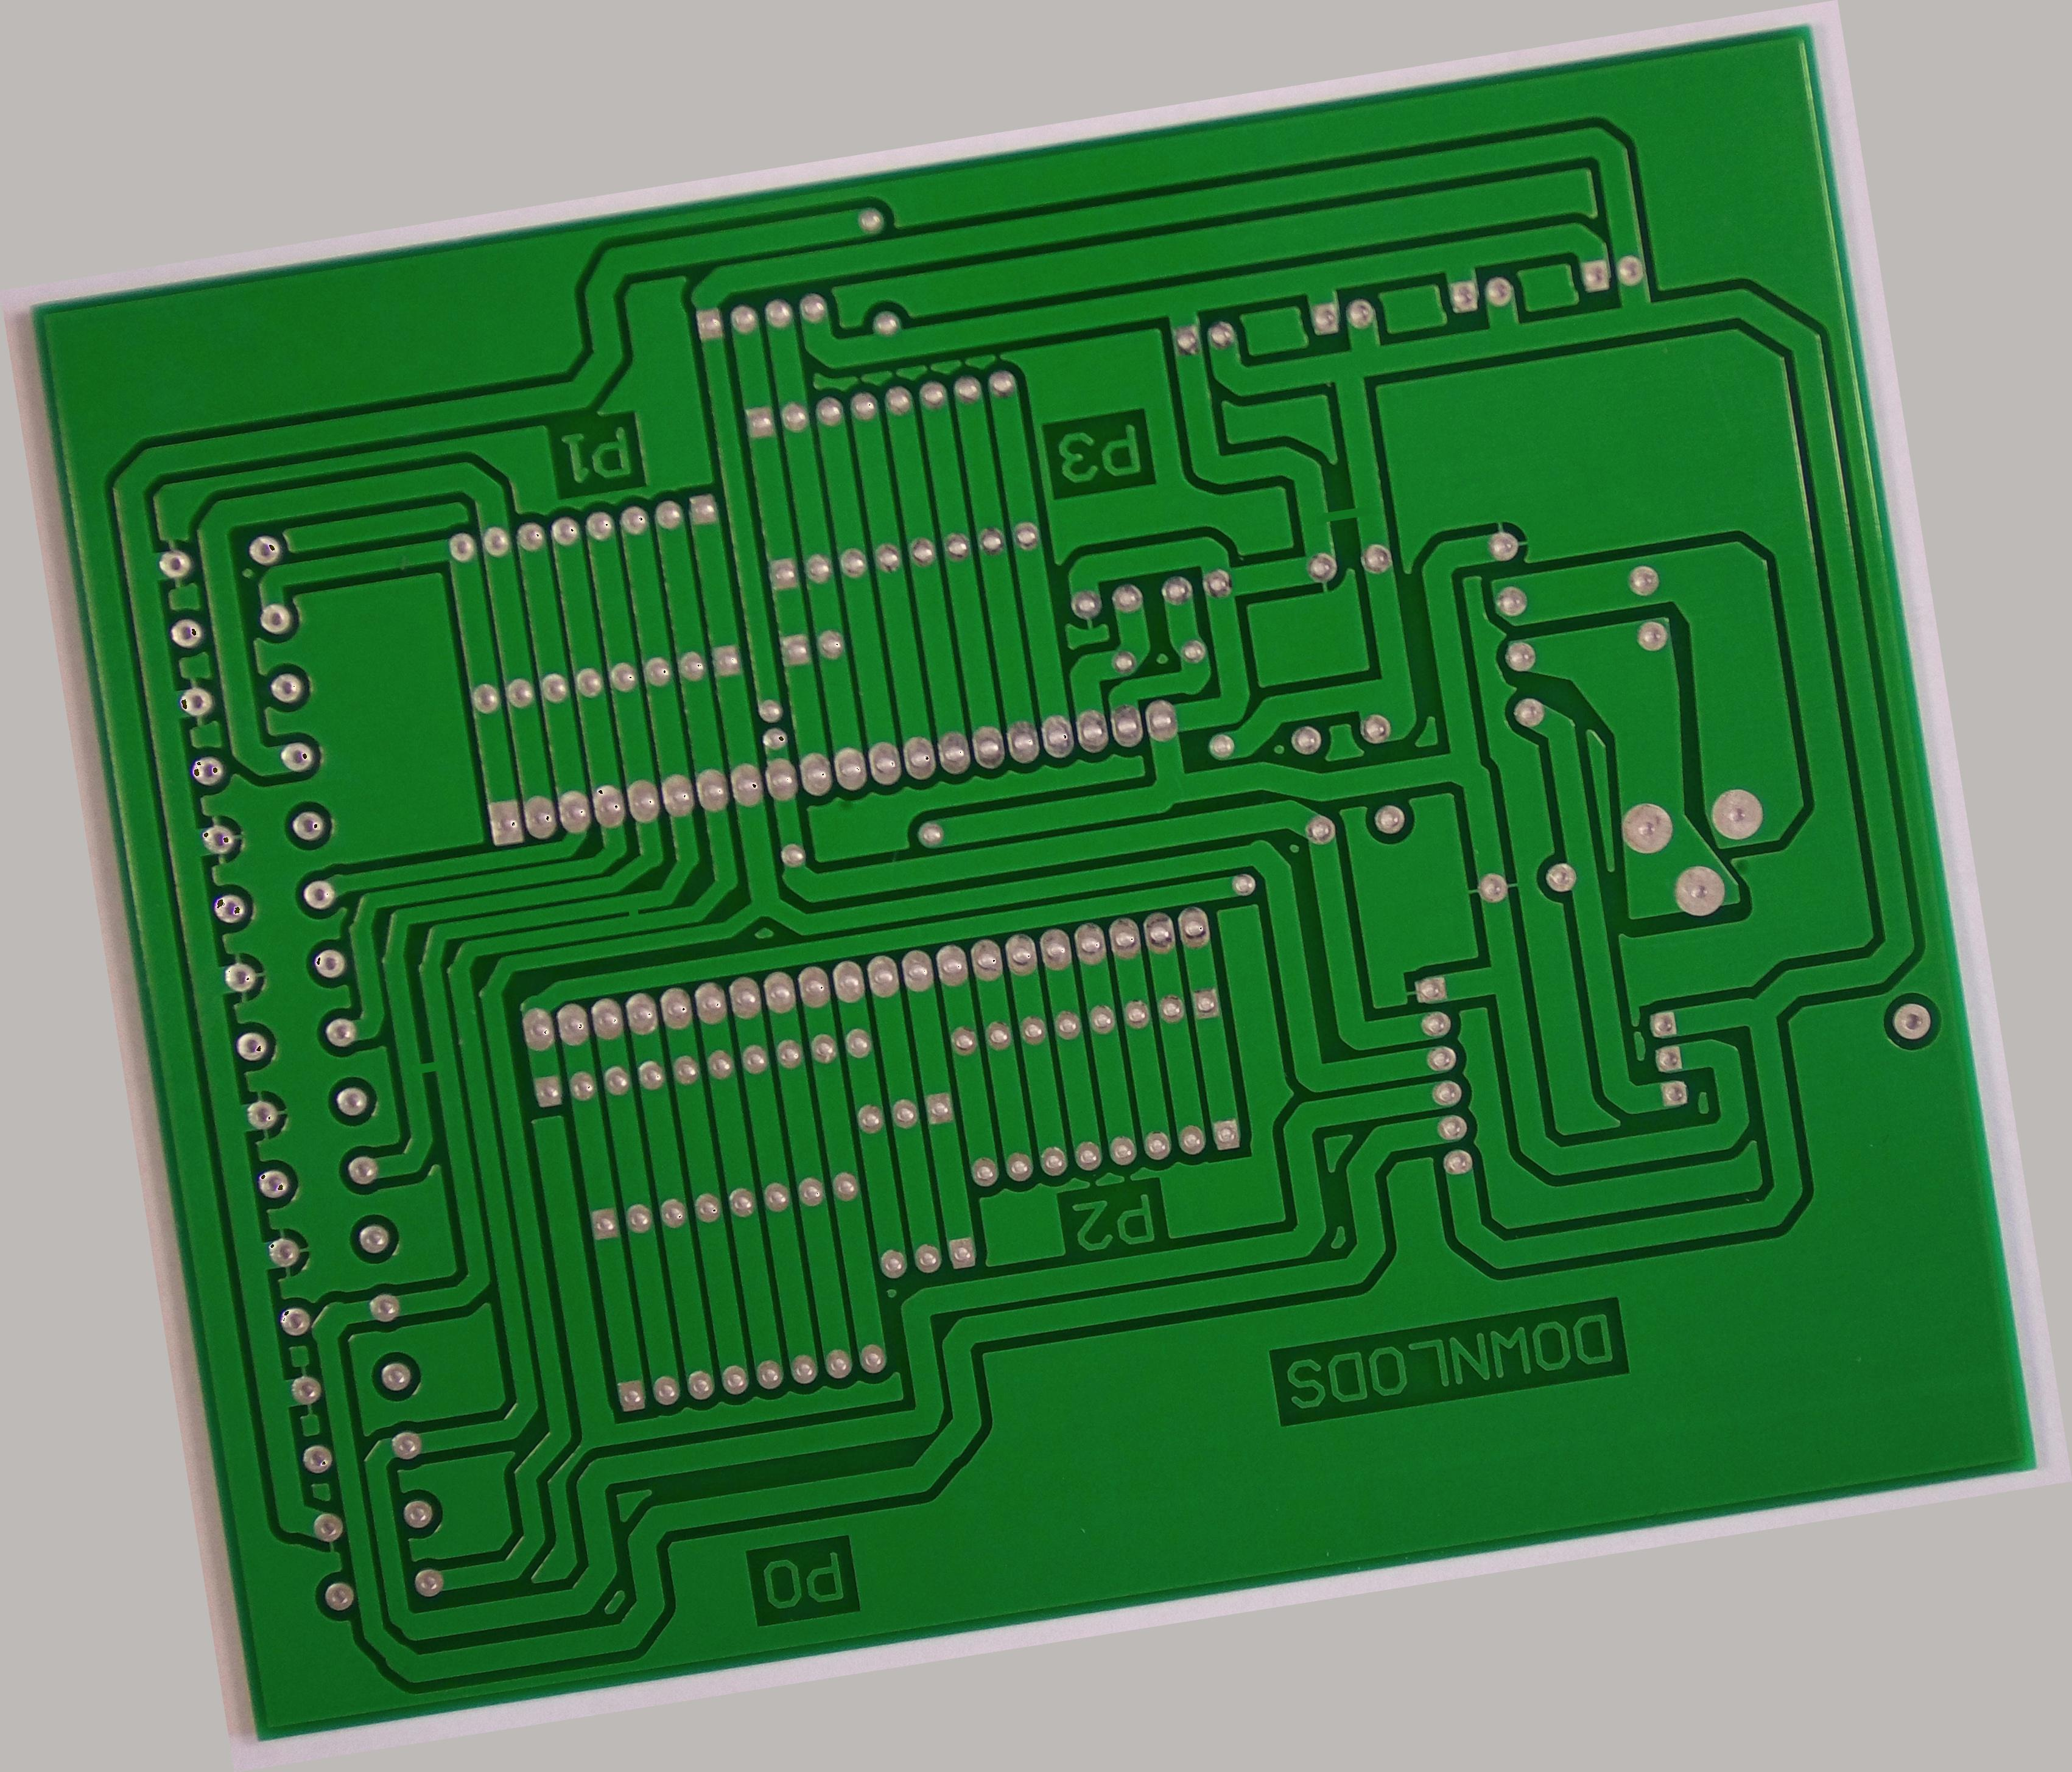short: (1295, 475, 1393, 556), (392, 1034, 464, 1102), (605, 882, 660, 939)
